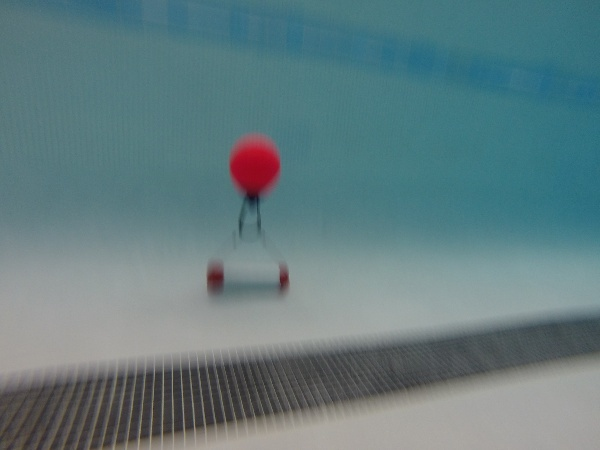buoy_red: (224, 137, 281, 204)
